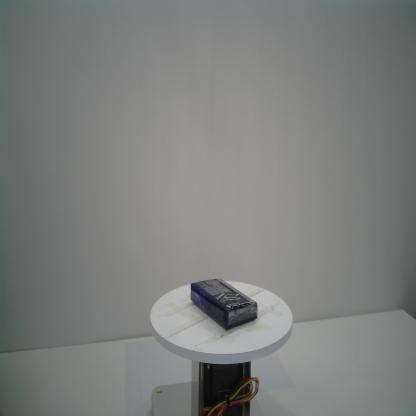Gum: (191, 276, 258, 330)
